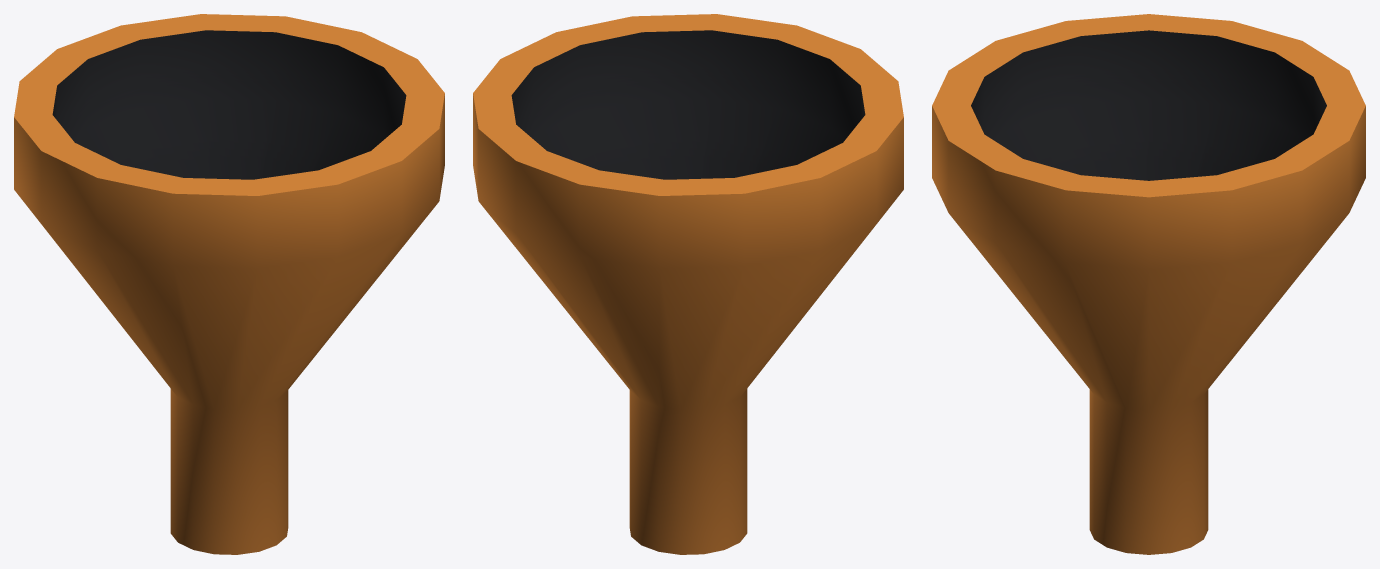
The model's file is SM_Funnel_01.glb.
3 renders of one model, left to right at view 1: azimuth 30°, elevation 25°; view 2: azimuth 150°, elevation 25°; view 3: azimuth 270°, elevation 25°, orthographic.
Visible parts, largest first — view 1: SM_Funnel_01; view 2: SM_Funnel_01; view 3: SM_Funnel_01.
Part boxes in pixels (x1,y1,x2,y2): SM_Funnel_01: [14, 14, 444, 554]; SM_Funnel_01: [473, 14, 903, 554]; SM_Funnel_01: [932, 14, 1365, 554].
Size of the model in its own units: 0.19 by 0.205 by 0.19.
1 material, 1 textured.
